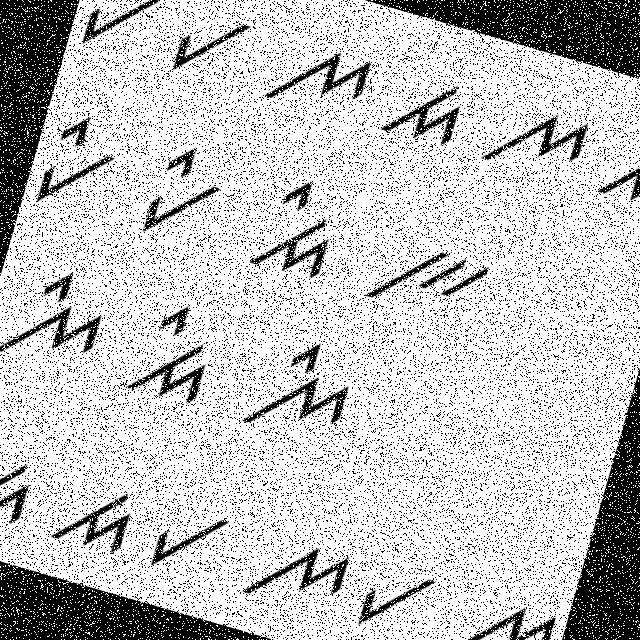da: (44, 470, 143, 568), (372, 64, 476, 156), (0, 433, 43, 540), (594, 124, 639, 222)
di: (234, 160, 356, 292), (122, 296, 230, 414)
na: (256, 25, 382, 139), (474, 85, 600, 198), (240, 517, 358, 624), (445, 580, 564, 639)
ni: (231, 318, 366, 456), (0, 252, 118, 383)
pa: (136, 484, 238, 594), (158, 0, 259, 93), (352, 550, 448, 639), (74, 0, 162, 70)
pi: (130, 132, 234, 252), (26, 100, 127, 221)
